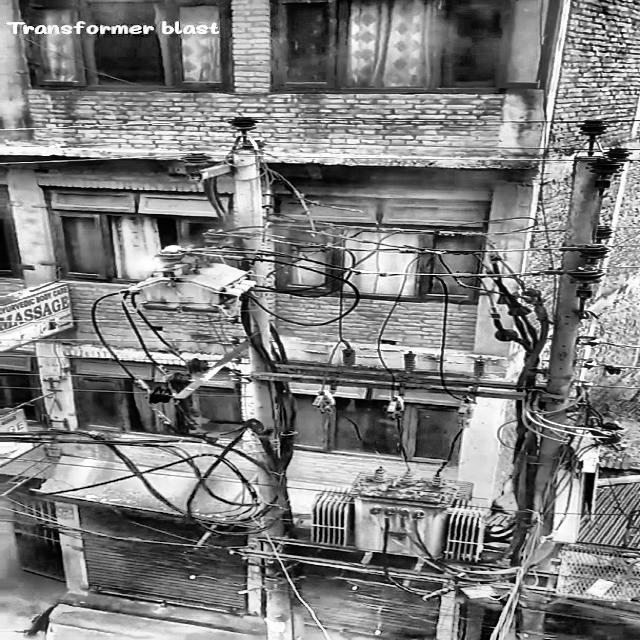Fire: (128, 254, 163, 277)
